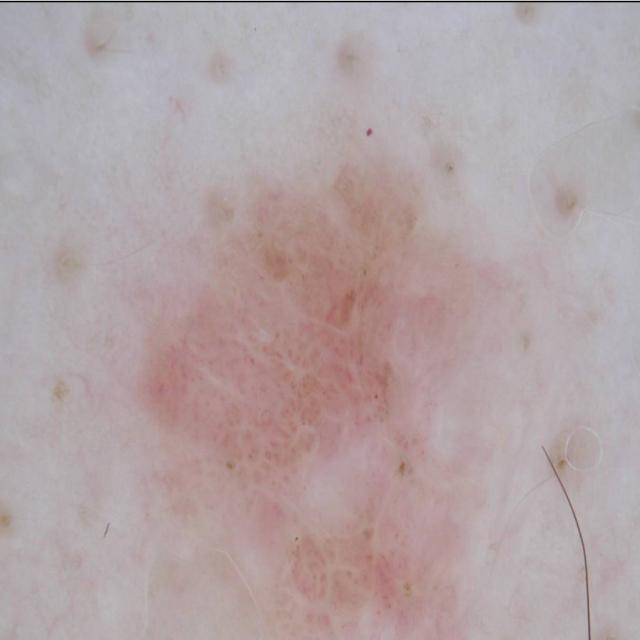Melanoma: (116, 135, 496, 640)
